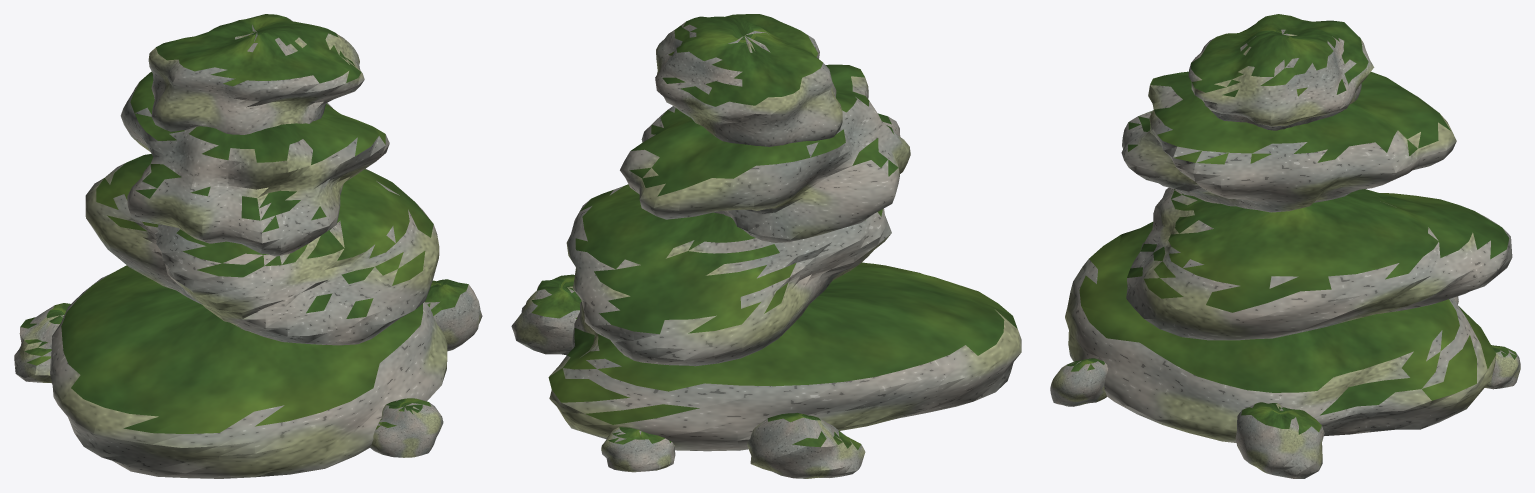
Rendered from SM_Grassland_GraniteTor_A.glb.
3 renders of one model, left to right at view 1: azimuth 30°, elevation 25°; view 2: azimuth 150°, elevation 25°; view 3: azimuth 270°, elevation 25°, orthographic. The views are drawn at different scales.
Visible parts, largest first — view 1: SM_Grassland_GraniteTor_A; view 2: SM_Grassland_GraniteTor_A; view 3: SM_Grassland_GraniteTor_A.
Boxes of the visible parts, x1,y1,x2,y2 form: SM_Grassland_GraniteTor_A: [14, 14, 482, 478]; SM_Grassland_GraniteTor_A: [511, 14, 1021, 478]; SM_Grassland_GraniteTor_A: [1050, 14, 1520, 478].
Size of the model in its own units: 8.13 by 6.2 by 7.6.
2 materials, 2 textured.
